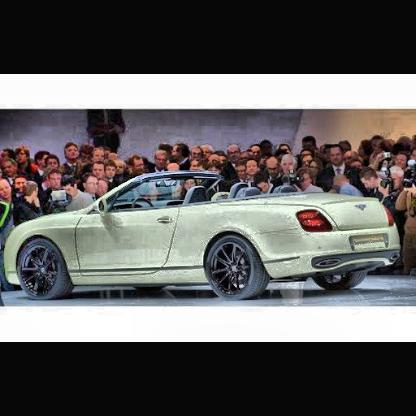Bentley Continental Supersports Conv- Convertible 2012: (6, 171, 402, 298)
